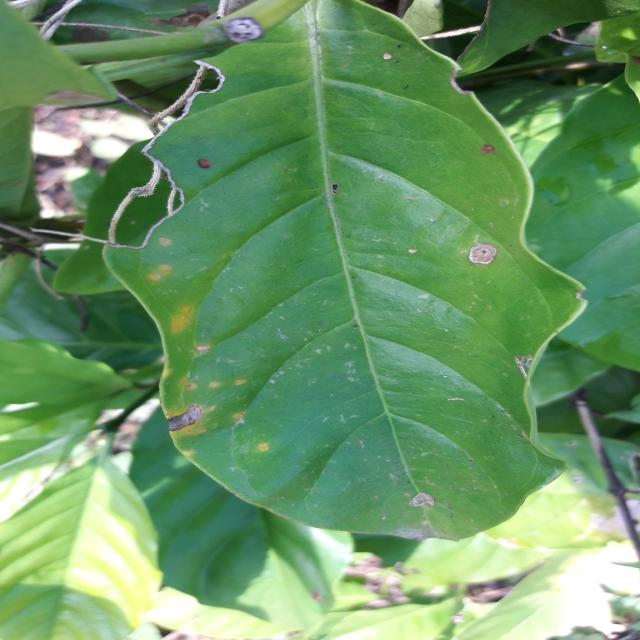Enfermedad-Roya: (103, 0, 586, 544)
